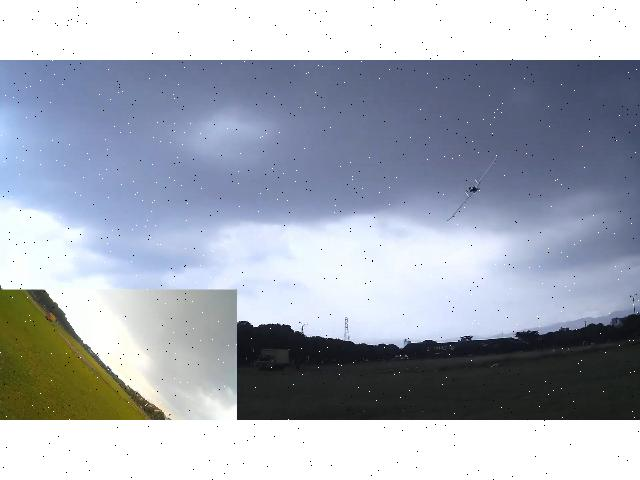Anti-Drone: (427, 146, 523, 232)
